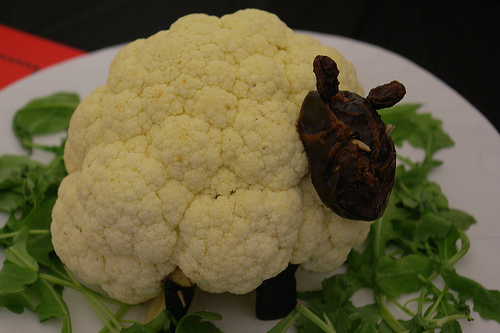cauliflower: (51, 9, 379, 302)
